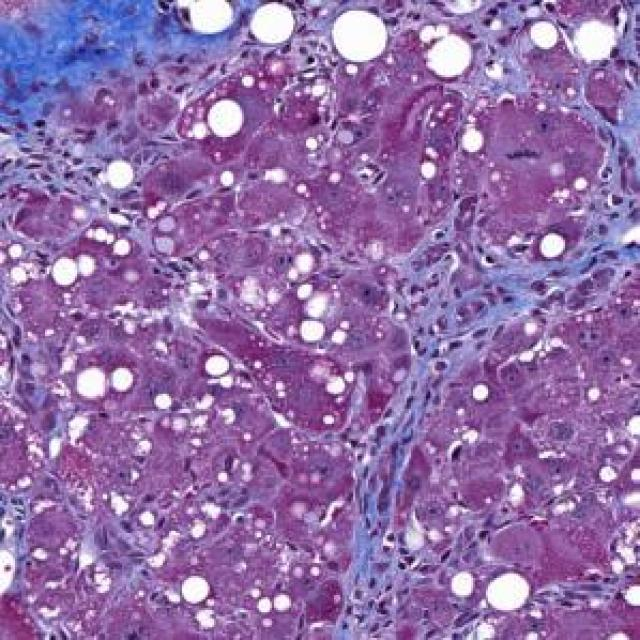fibrosis: (13, 15, 210, 173), (368, 259, 540, 437)
